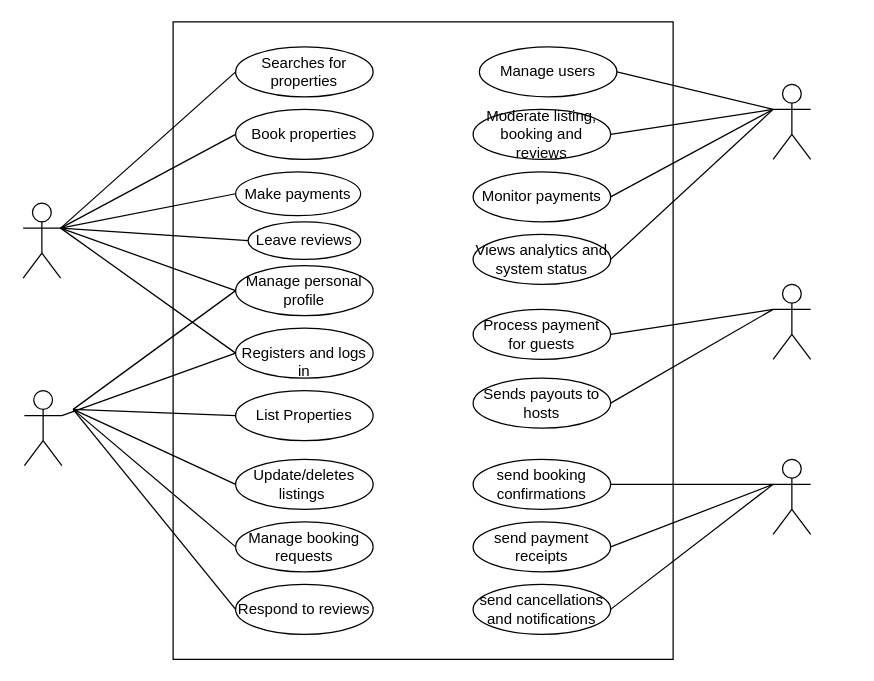
This 874x681 diagram has some shape labels left out. Each missing label, with the box of its shape:
Admin: (772, 83, 811, 159)
Email Service: (772, 458, 811, 534)
Guest: (22, 202, 61, 278)
Host: (23, 389, 62, 466)
Payment Gateway: (772, 283, 811, 359)
